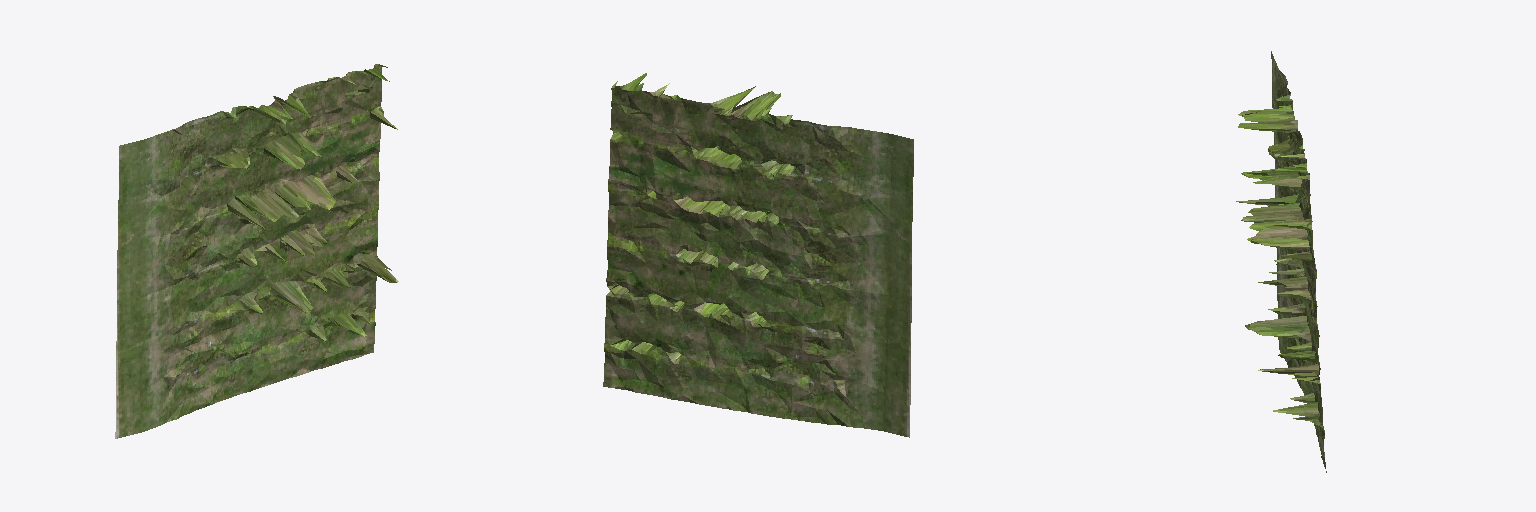
The picture shows the model from 3 angles: view 1: azimuth 30°, elevation 25°; view 2: azimuth 150°, elevation 25°; view 3: azimuth 270°, elevation 25°; orthographic projection.
Parts seen in each view (by area): view 1: grp1; view 2: grp1; view 3: grp1.
Part boxes in pixels (left/top/right/bottom): grp1: left=115, top=64, right=398, bottom=438; grp1: left=603, top=73, right=913, bottom=437; grp1: left=1236, top=51, right=1326, bottom=472.
Size of the model in its own units: 10 by 10 by 2.85.
1 materials, 1 textured.